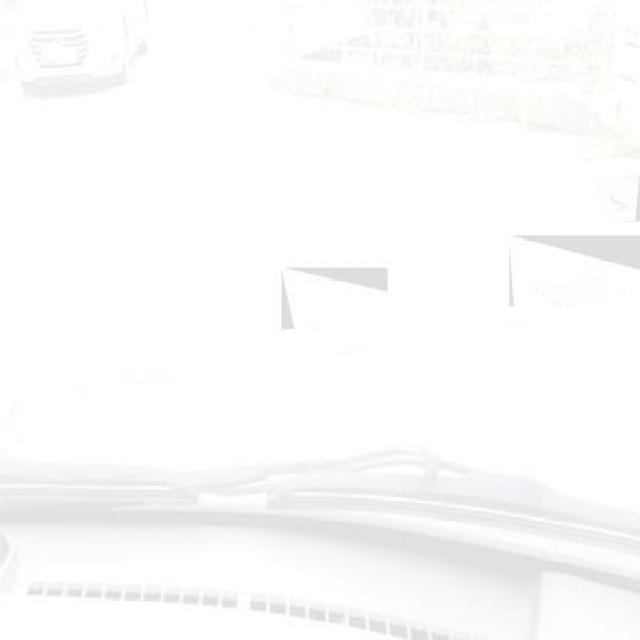Manhole: (509, 236, 640, 306), (282, 268, 388, 330), (594, 169, 640, 222)
